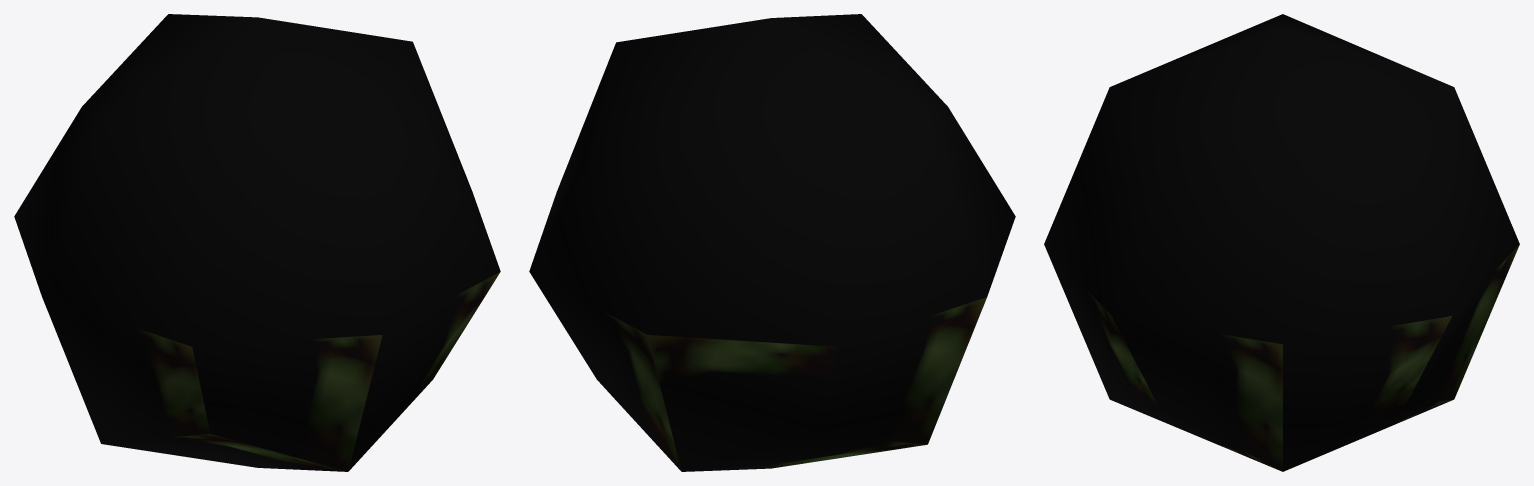
3 renders of one model, left to right at view 1: azimuth 30°, elevation 25°; view 2: azimuth 150°, elevation 25°; view 3: azimuth 270°, elevation 25°, orthographic. The views are drawn at different scales.
Visible parts, largest first — view 1: T1L9M005_3; view 2: T1L9M005_3; view 3: T1L9M005_3.
Part boxes in pixels (x1,y1,x2,y2): T1L9M005_3: (14, 14, 500, 471); T1L9M005_3: (529, 14, 1015, 471); T1L9M005_3: (1044, 14, 1519, 471).
Size of the model in its own units: 0.2549 by 0.2549 by 0.2549.
